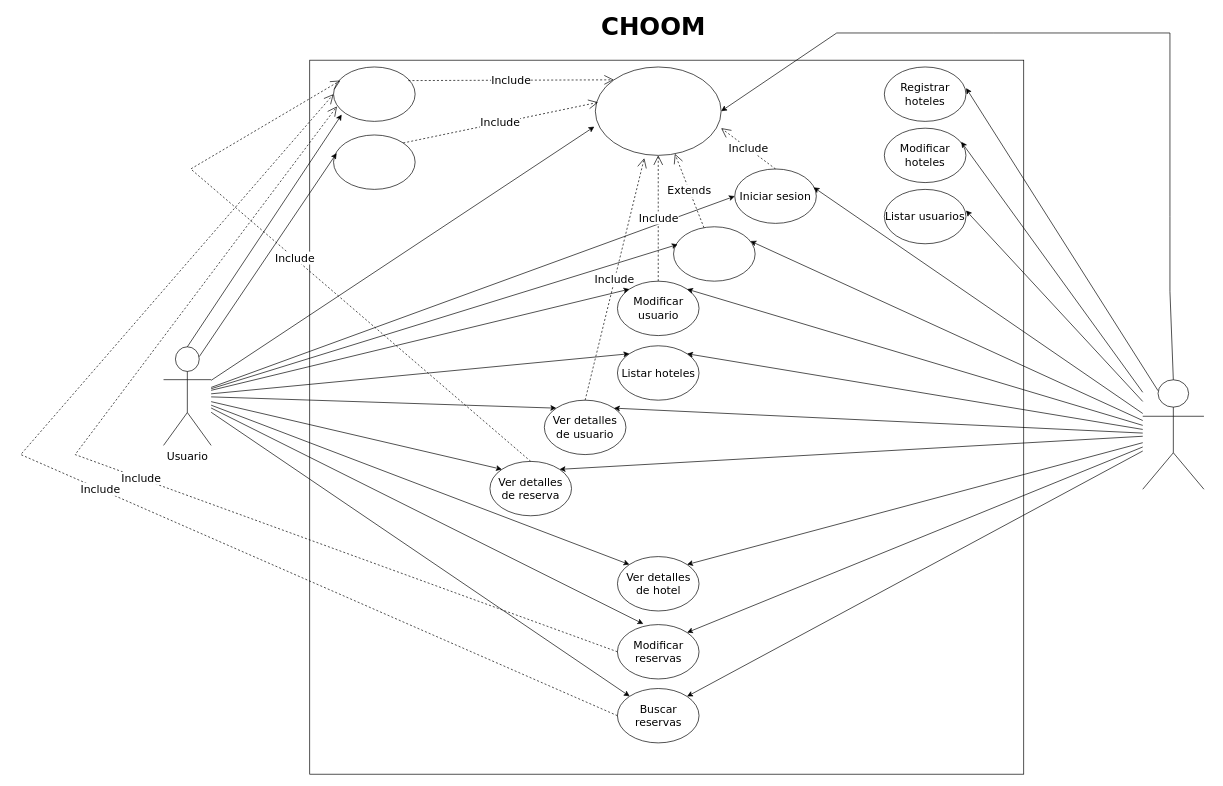
This 1223x786 diagram has some shape labels left out. Each missing label, with the box of its shape:
Administrador: (1142, 379, 1204, 489)
Buscar hoteles: (673, 226, 755, 281)
Registrar valoracion: (333, 134, 415, 189)
Registrarse: (595, 66, 721, 155)
Reservar habitacion: (333, 66, 415, 121)
